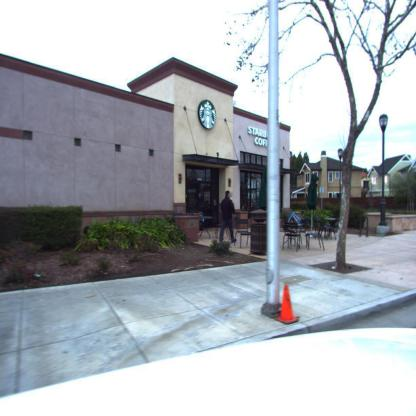chair: (282, 225, 304, 252), (305, 227, 325, 250)
person: (218, 190, 236, 242)
